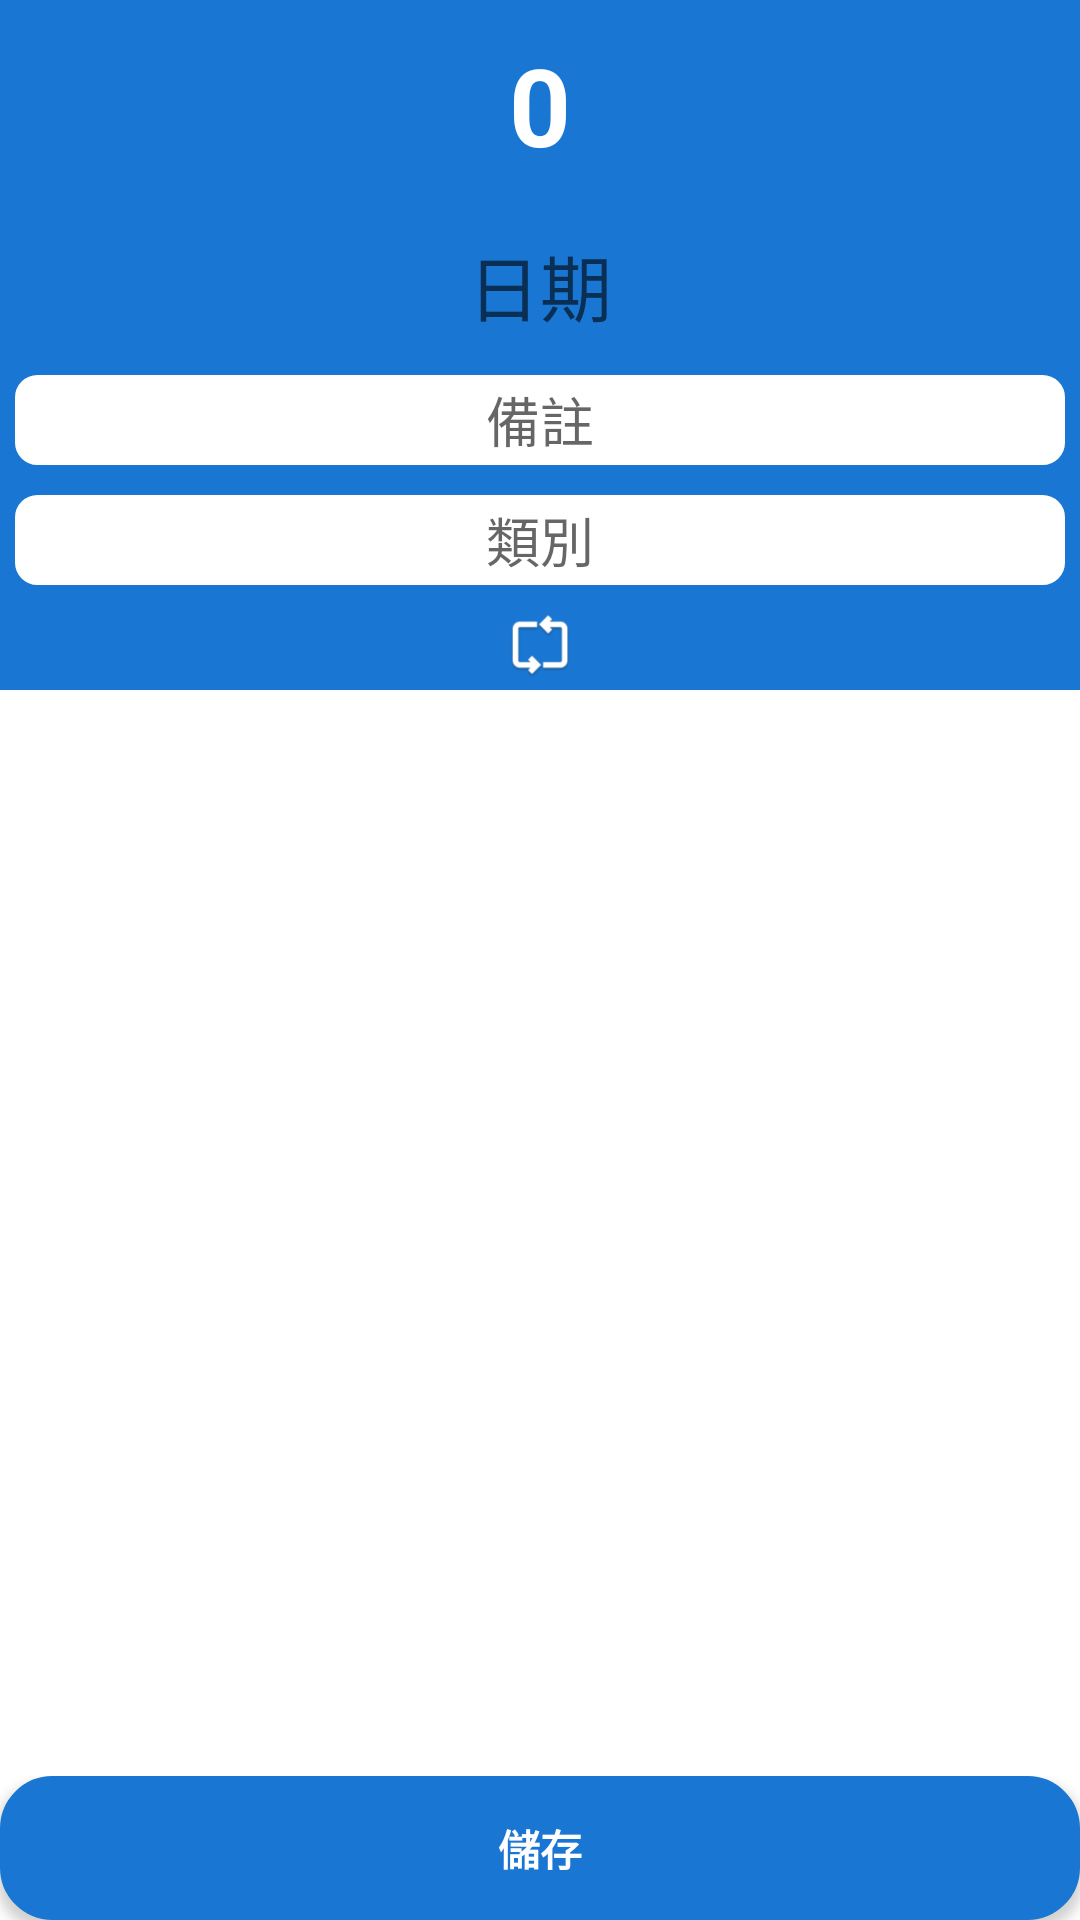

Named icons in this screenshot (1080 × 1920) and their centers, [x,y]:
tougglesicons: [540,645]
